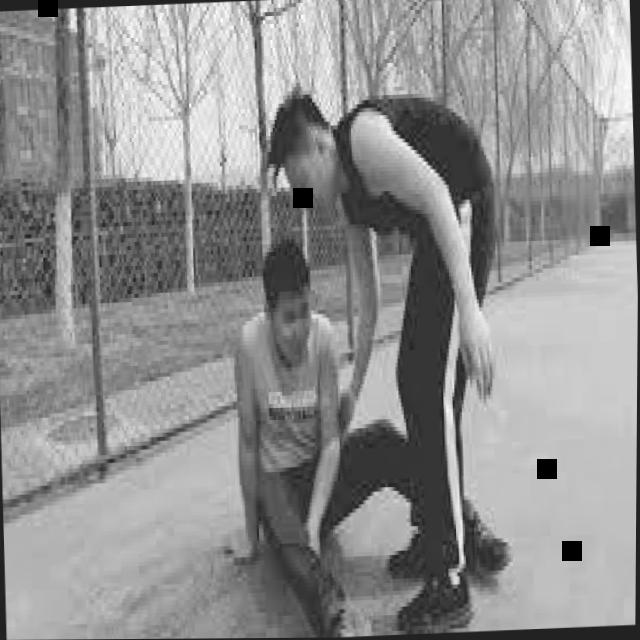Fall-Detected: (199, 222, 518, 638)
